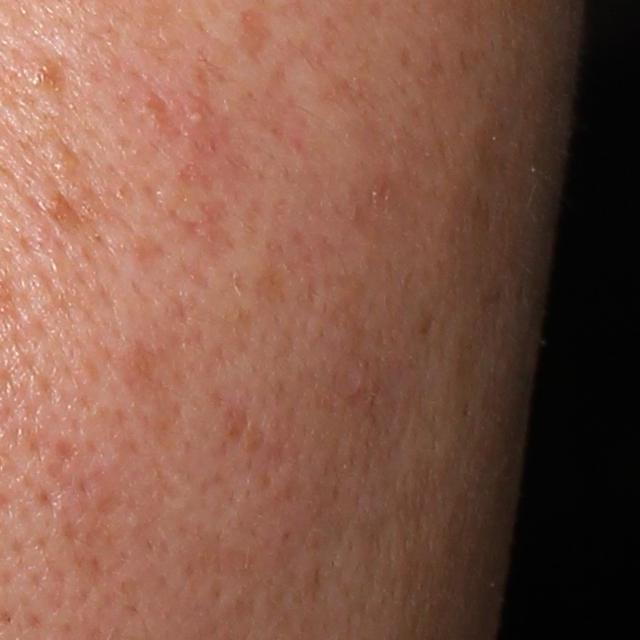atrophic_scar: (236, 7, 275, 65)
